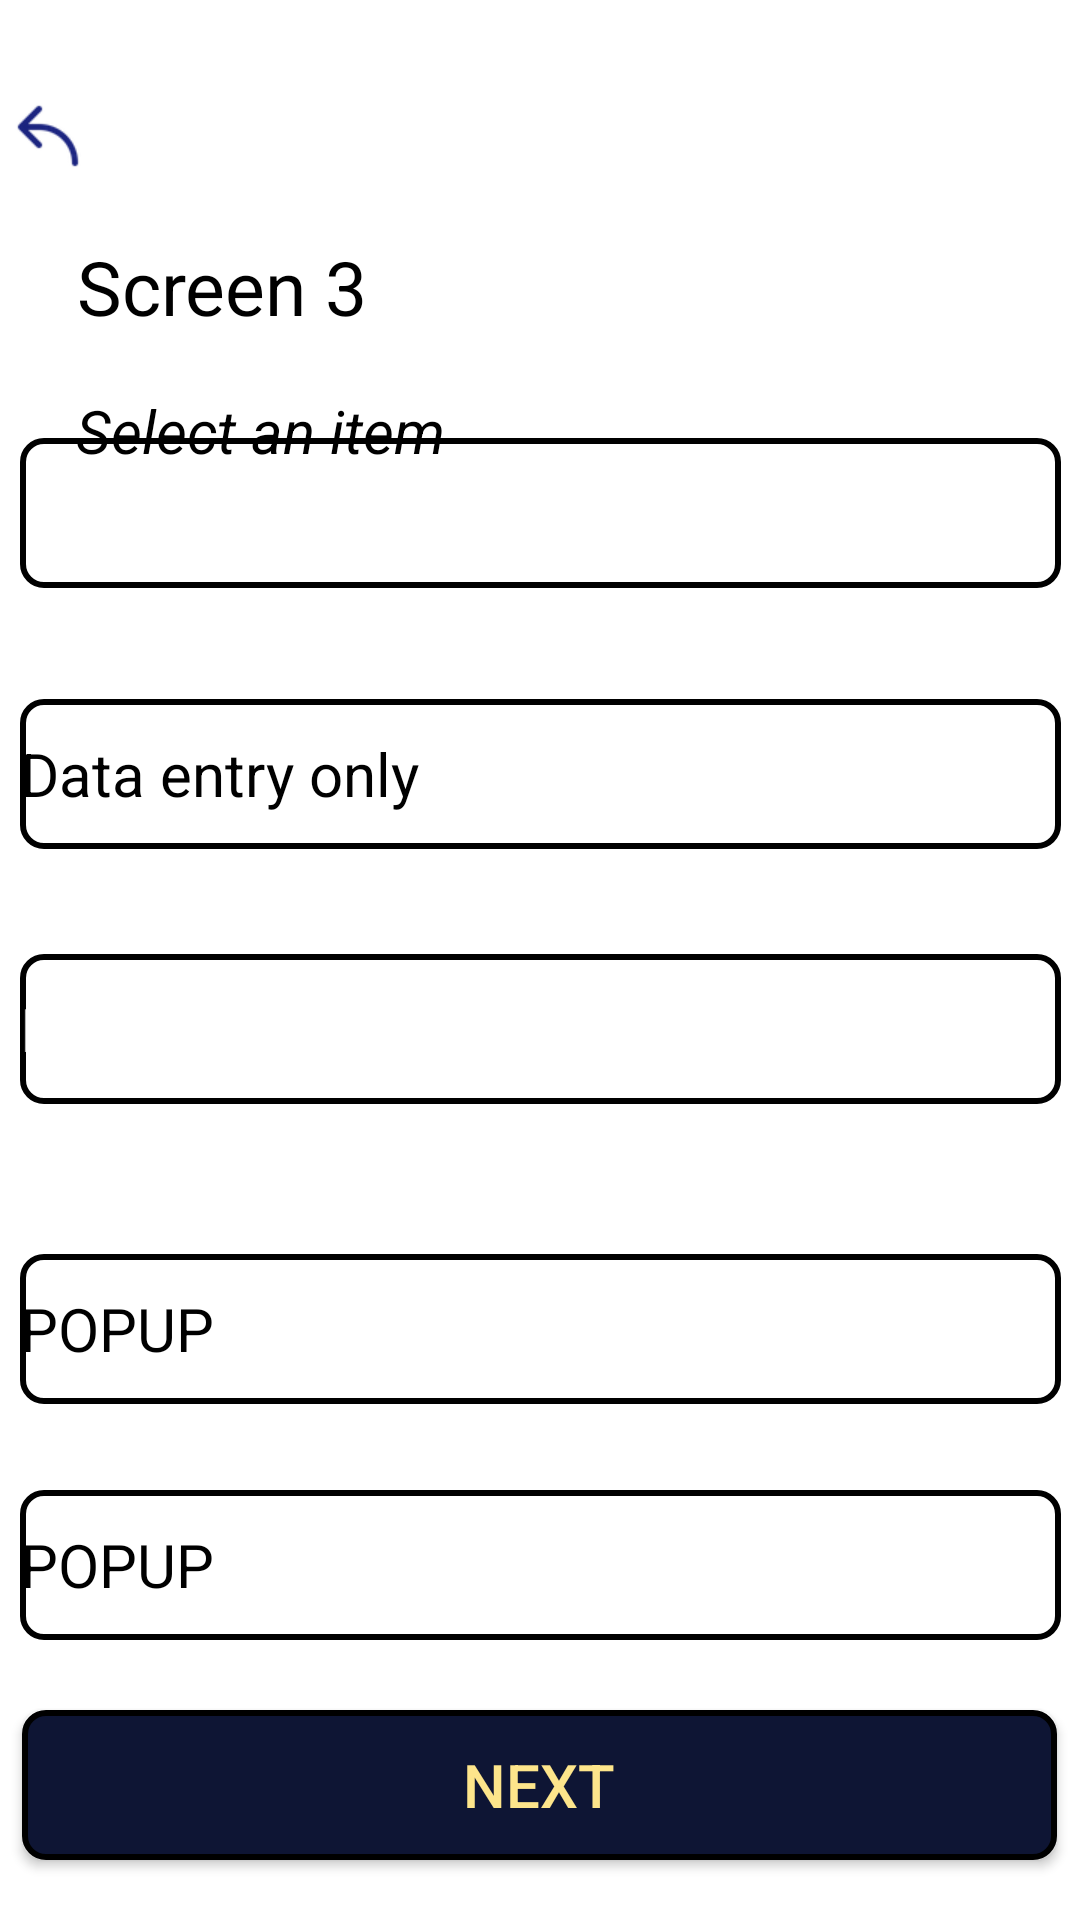

Point at icon controls on the screen. Image size 1080x1920, points as [x,y].
backarrow: [48,136]
